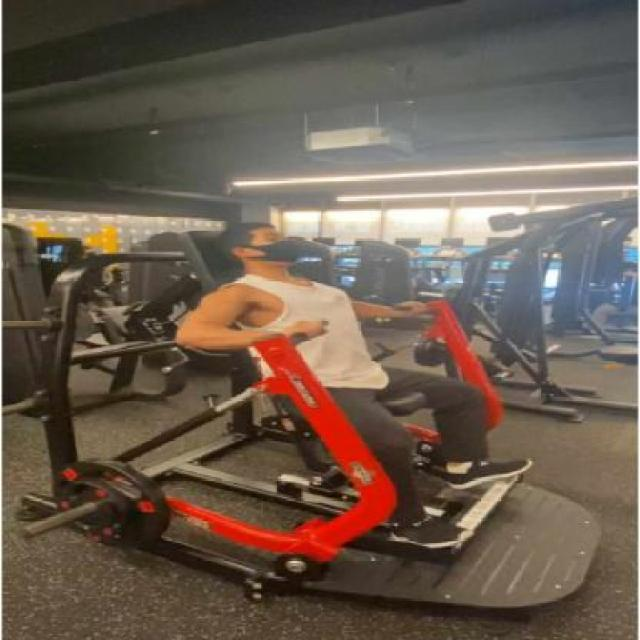Chest Press machine: (3, 209, 623, 622)
